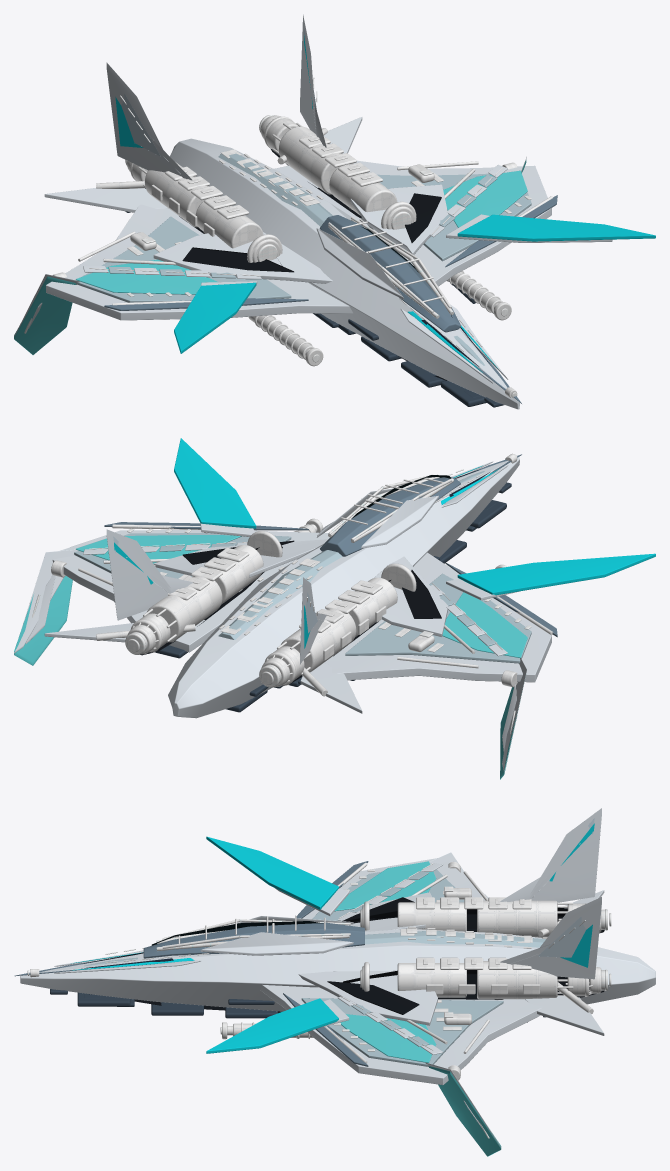
File: shooter.obj
3 views of the same model, one above another, from view 1: azimuth 30°, elevation 25°; view 2: azimuth 150°, elevation 25°; view 3: azimuth 270°, elevation 25° (orthographic). The views are drawn at different scales.
Visible parts, largest first — view 1: 01_|_Fuselaje_principal_esculpido, 11_|_Ala_principal_L, 11_|_Ala_principal_R, 15_|_Canard_delantero_cian_R, 06_|_Base_de_cabina_integrada, V5_|_Blindaje_raiz_ala_L, 15_|_Canard_delantero_cian_L, 12_|_Panel_ala_gris_L, 13_|_Inserto_ala_cian_L, 20_|_Aleta_alta_L, 13_|_Inserto_ala_cian_R, 22_|_Winglet_vertical_L (+19 smaller); view 2: 01_|_Fuselaje_principal_esculpido, 11_|_Ala_principal_L, 15_|_Canard_delantero_cian_L, 11_|_Ala_principal_R, 20_|_Aleta_alta_R, 15_|_Canard_delantero_cian_R, 12_|_Panel_ala_gris_L, 13_|_Inserto_ala_cian_L, 06_|_Base_de_cabina_integrada, 18_|_Turbina_R_2.2, 03_|_Espina_dorsal_plateada, 22_|_Winglet_vertical_R (+19 smaller); view 3: 01_|_Fuselaje_principal_esculpido, 11_|_Ala_principal_R, 20_|_Aleta_alta_L, 15_|_Canard_delantero_cian_L, 15_|_Canard_delantero_cian_R, 12_|_Panel_ala_gris_R, V5_|_Blindaje_raiz_ala_R, 20_|_Aleta_alta_R, 06_|_Base_de_cabina_integrada, 18_|_Turbina_L_2.2, 13_|_Inserto_ala_cian_R, V5_|_Cabina_hombro_blindado_R (+20 smaller).
Part boxes in pixels (x1,y1,x2,y2): 01_|_Fuselaje_principal_esculpido: (170,138,519,409); 11_|_Ala_principal_L: (46,204,353,320); 11_|_Ala_principal_R: (274,160,551,286); 15_|_Canard_delantero_cian_R: (457,214,655,241); 06_|_Base_de_cabina_integrada: (319,215,460,332); V5_|_Blindaje_raiz_ala_L: (153,232,332,283); 15_|_Canard_delantero_cian_L: (174,282,256,353); 12_|_Panel_ala_gris_L: (75,216,291,302); 13_|_Inserto_ala_cian_L: (76,259,218,294); 20_|_Aleta_alta_L: (106,62,192,180); 13_|_Inserto_ala_cian_R: (443,170,527,227); 22_|_Winglet_vertical_L: (14,276,76,354); 01_|_Fuselaje_principal_esculpido: (168,457,519,718); 11_|_Ala_principal_L: (324,552,551,682); 15_|_Canard_delantero_cian_L: (457,553,655,595); 11_|_Ala_principal_R: (52,530,329,652); 20_|_Aleta_alta_R: (106,529,192,620); 15_|_Canard_delantero_cian_R: (174,438,256,528); 12_|_Panel_ala_gris_L: (345,573,531,663); 13_|_Inserto_ala_cian_L: (442,592,527,658); 06_|_Base_de_cabina_integrada: (320,477,460,556); 18_|_Turbina_R_2.2: (147,576,222,642); 03_|_Espina_dorsal_plateada: (218,471,484,639); 22_|_Winglet_vertical_R: (14,576,72,665); 01_|_Fuselaje_principal_esculpido: (20,928,655,1011); 11_|_Ala_principal_R: (260,985,542,1084); 20_|_Aleta_alta_L: (500,808,601,902); 15_|_Canard_delantero_cian_L: (206,836,338,909); 15_|_Canard_delantero_cian_R: (206,998,338,1053); 12_|_Panel_ala_gris_R: (301,998,503,1066); V5_|_Blindaje_raiz_ala_R: (298,970,437,1025); 20_|_Aleta_alta_R: (500,897,601,979); 06_|_Base_de_cabina_integrada: (143,922,364,958); 18_|_Turbina_L_2.2: (477,900,557,937); 13_|_Inserto_ala_cian_R: (340,1014,436,1062); V5_|_Cabina_hombro_blindado_R: (200,932,353,955).
Size of the model in its own units: 11.72 by 4.91 by 14.34.
Materials: 23 (12 with a texture image).
